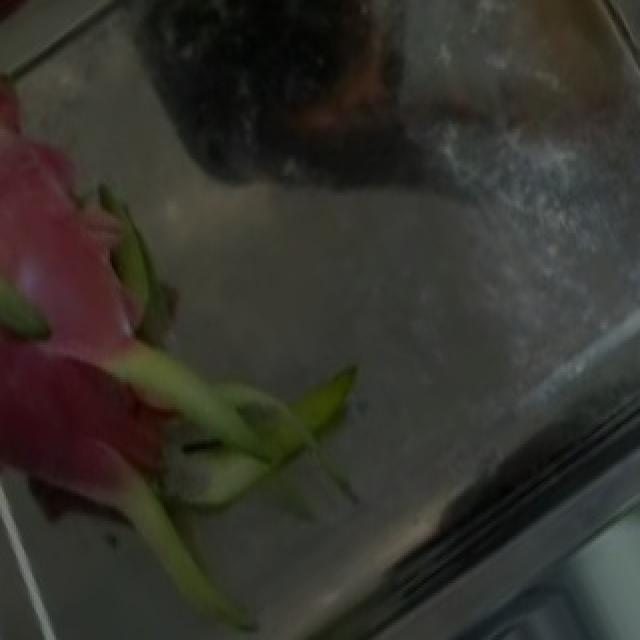fruit: (0, 5, 306, 367)
